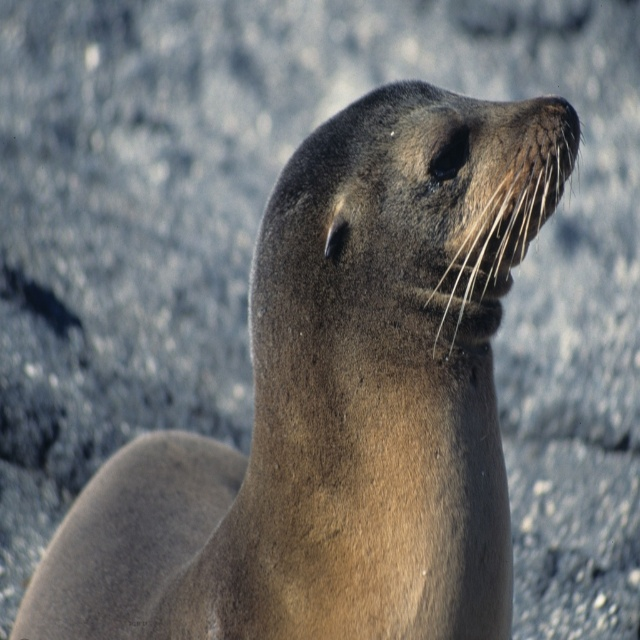Sea lion: (7, 73, 588, 639)
